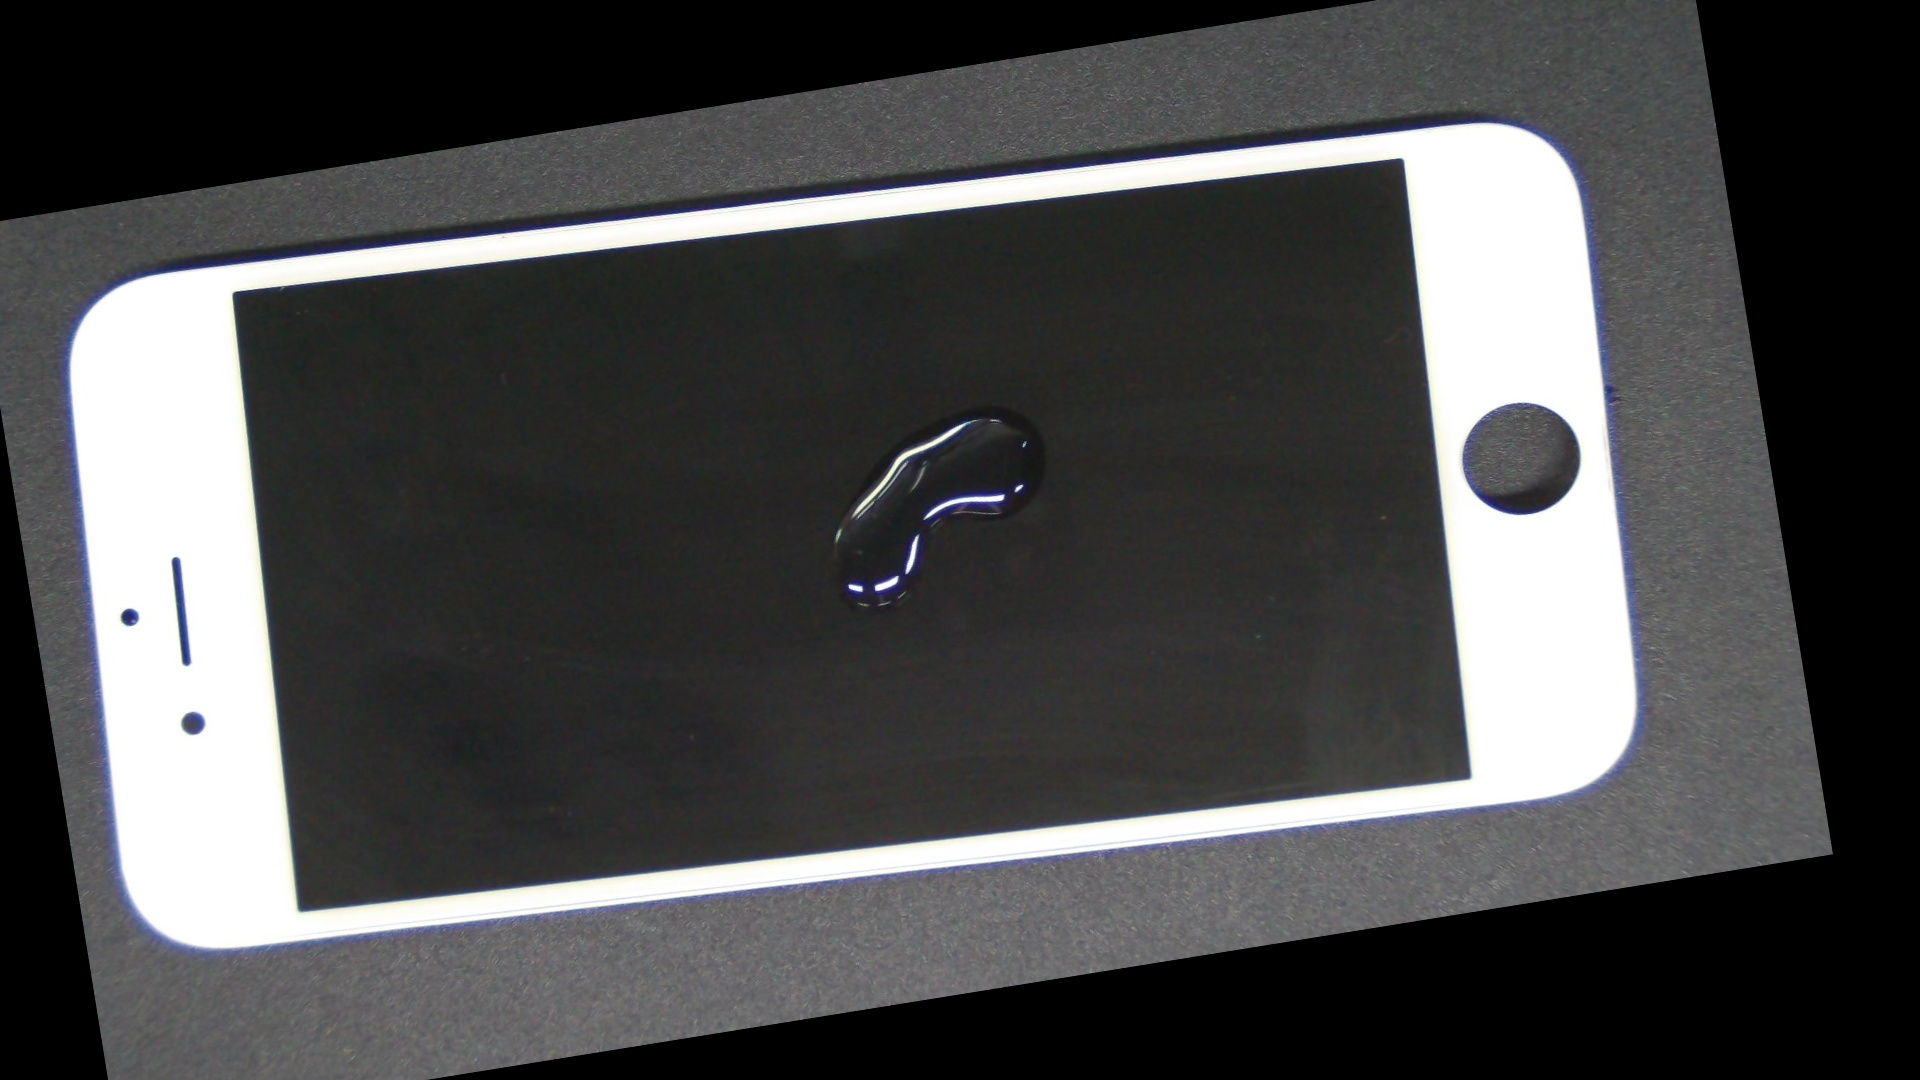oil: (479, 161, 1494, 650)
